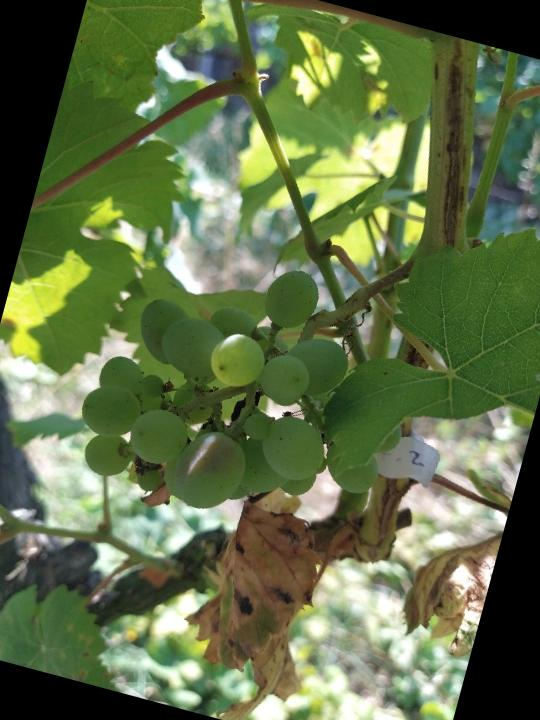grape: (62, 221, 439, 557)
